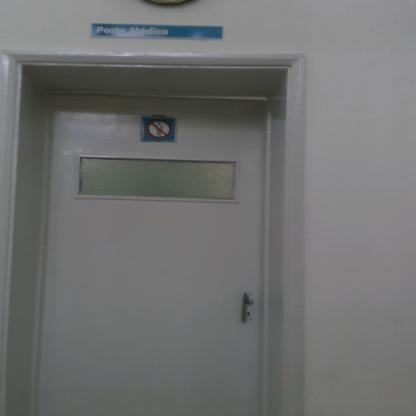door: (46, 93, 266, 416)
